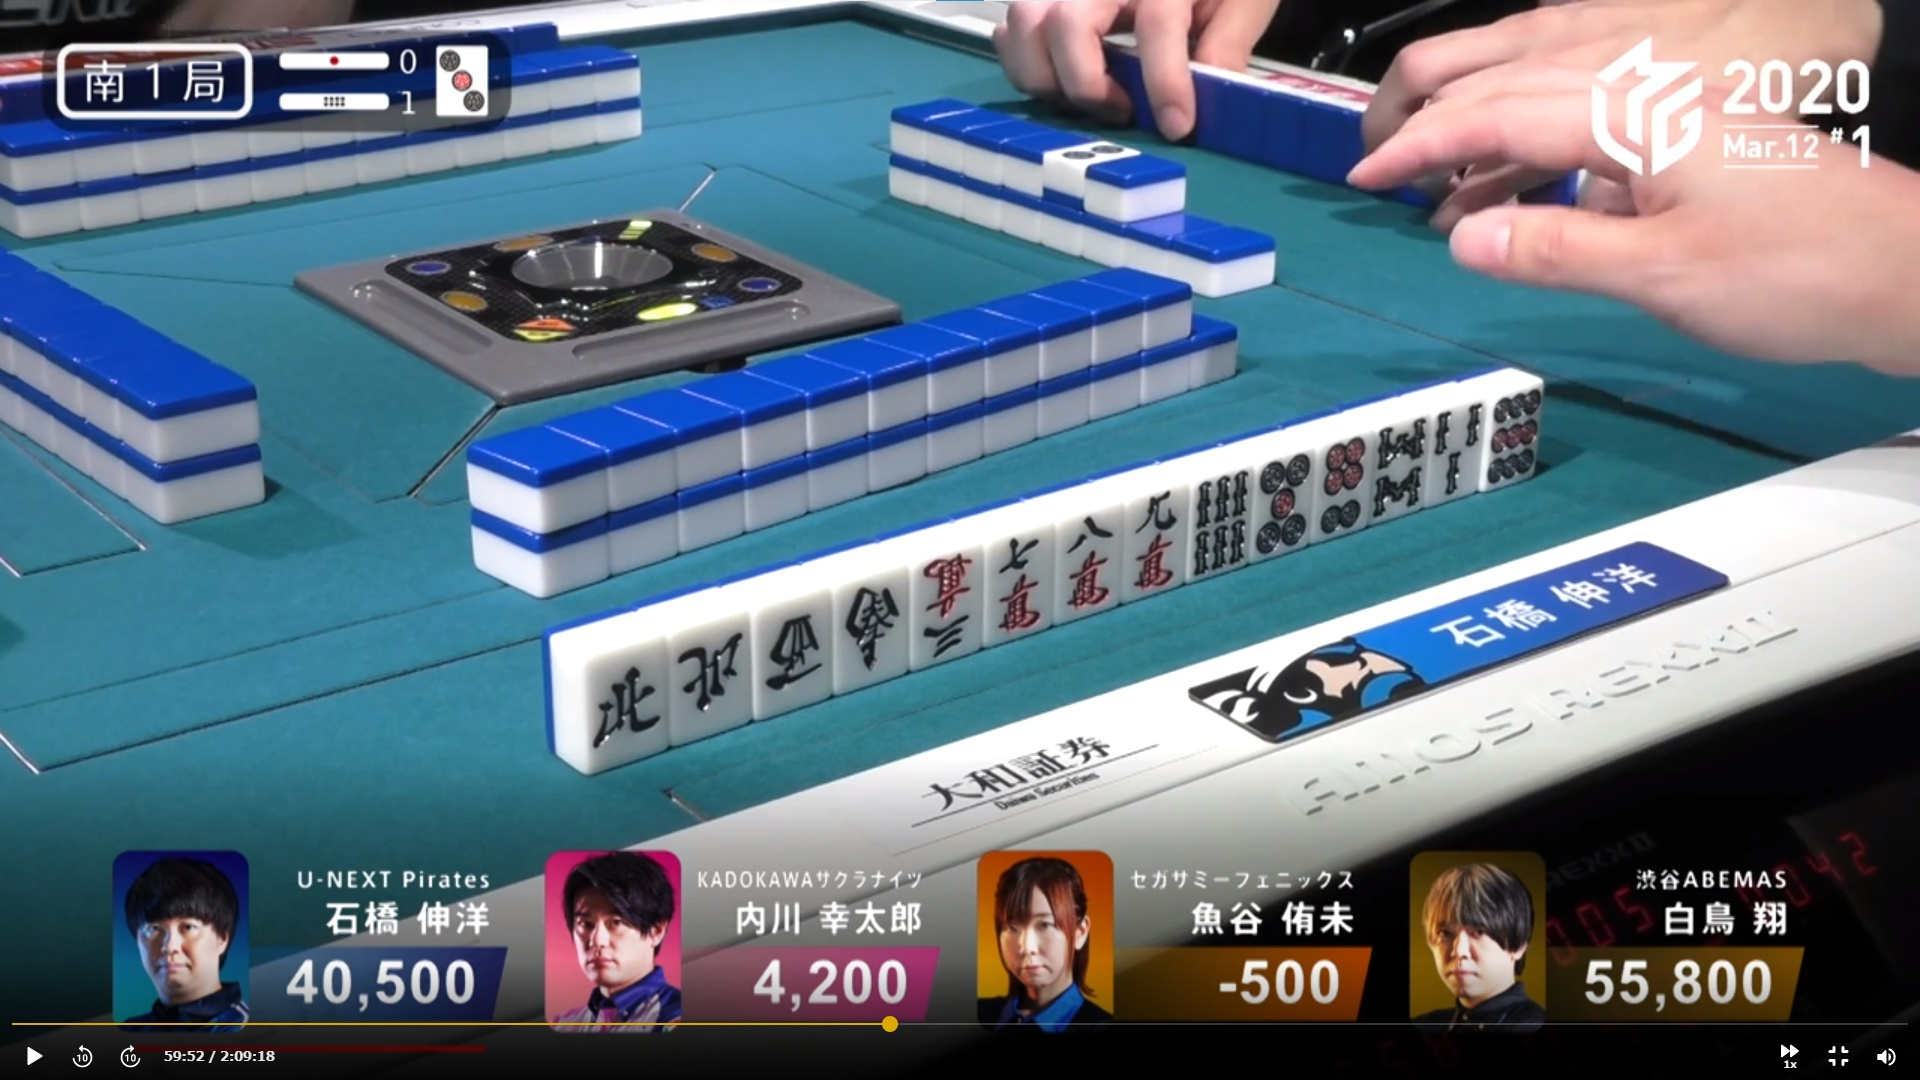3m: (907, 531, 984, 665)
3s: (1429, 398, 1482, 500)
5p: (1251, 429, 1312, 560)
6p: (1312, 407, 1367, 538)
7m: (992, 512, 1048, 640)
8m: (1054, 495, 1120, 621)
8s: (1367, 388, 1425, 524)
9m: (1117, 465, 1183, 603)
9p: (1480, 367, 1542, 491)
9s: (1187, 448, 1253, 579)
hand_nan_1: (49, 32, 265, 117)
nan: (828, 560, 910, 692)
pei: (570, 620, 659, 762), (670, 611, 748, 732)
round_1: (270, 79, 427, 121)
sha: (745, 578, 829, 712)
team_pirates: (1187, 625, 1449, 749)
